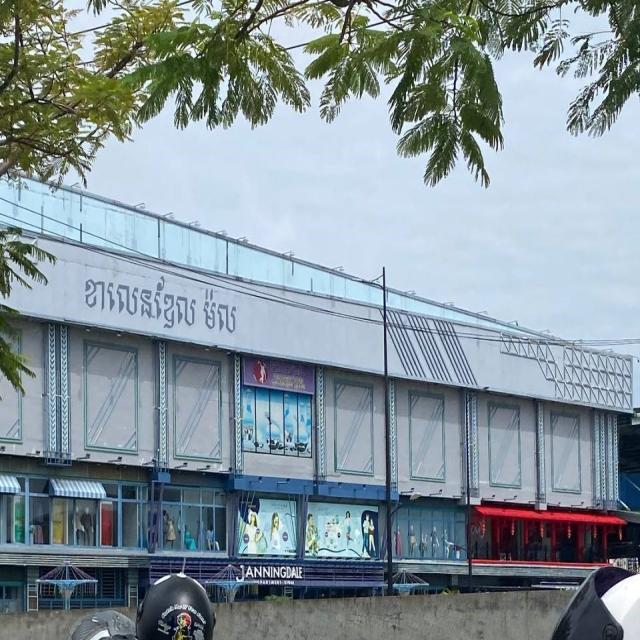Yolov11kh: (81, 265, 244, 345)
